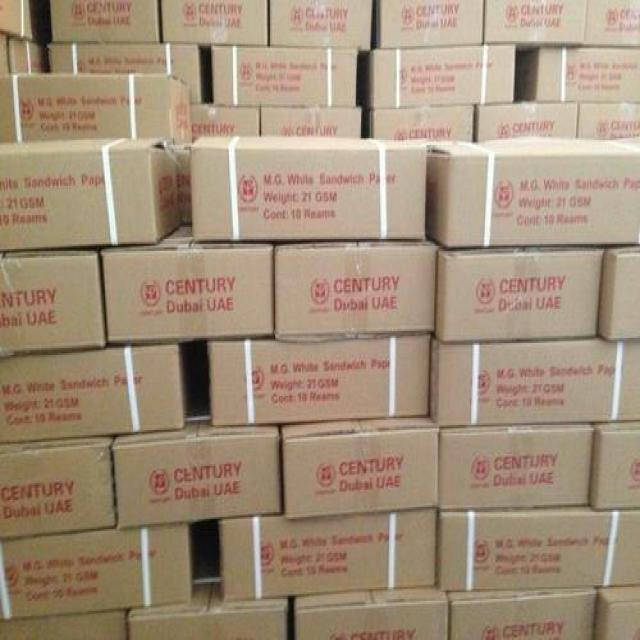box: (188, 135, 426, 241), (197, 324, 435, 426), (430, 138, 640, 251), (0, 341, 199, 454), (435, 496, 640, 605), (0, 510, 196, 621), (214, 503, 441, 598), (431, 324, 640, 426), (0, 141, 182, 250), (101, 225, 272, 338), (269, 230, 443, 339), (112, 419, 284, 526), (433, 232, 601, 338), (278, 420, 448, 522), (0, 72, 204, 154), (436, 417, 598, 517), (0, 232, 110, 362), (0, 432, 120, 542), (42, 40, 208, 106), (208, 43, 366, 111), (371, 48, 526, 110), (155, 0, 270, 52), (521, 46, 640, 96), (264, 0, 374, 53), (49, 0, 160, 49), (372, 0, 480, 50), (482, 0, 590, 46)
